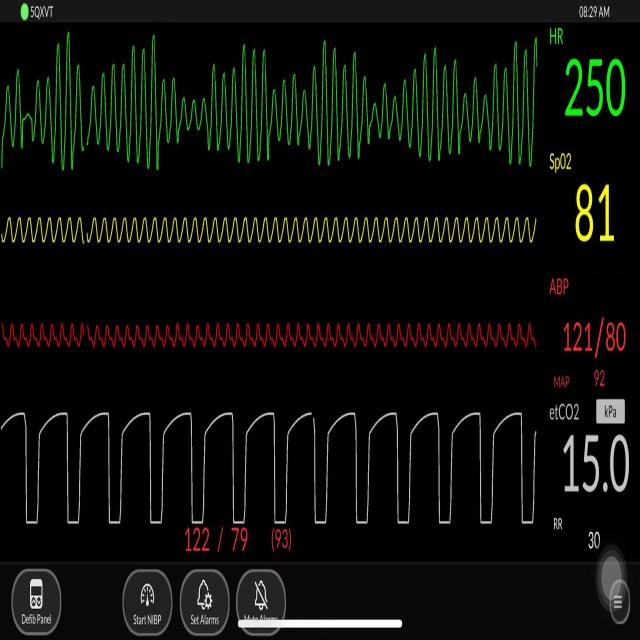danger: (5, 32, 542, 188)
